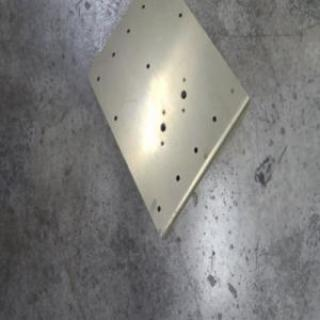MetalSheettrack_idkeyframe: (83, 0, 251, 242)
